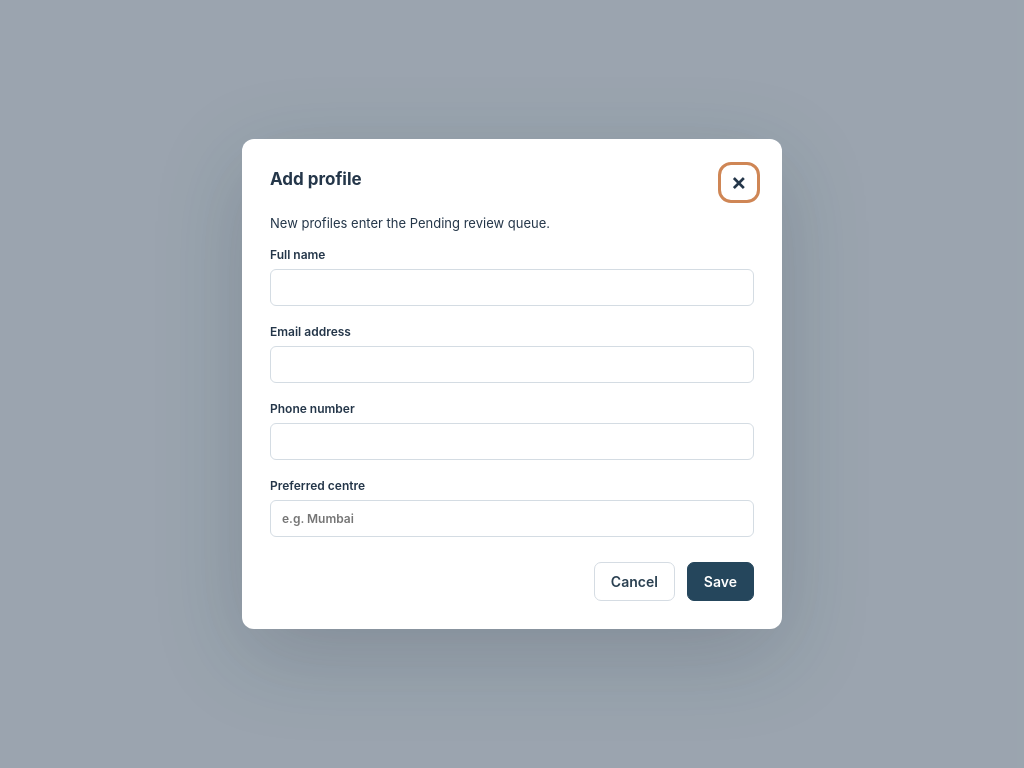
Create forms › retains profile input and displays duplicate email errors
In the field labelled "Full name": [512, 288] box [270,269,754,306], type "Candidate"
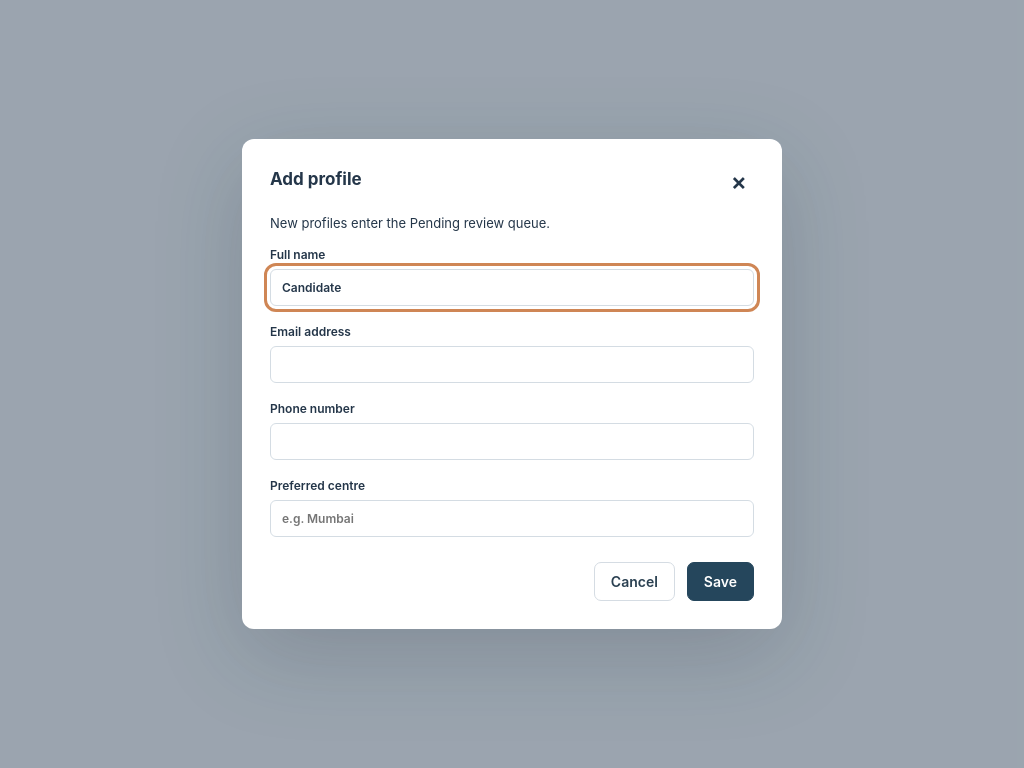
In the field labelled "Email address": [512, 365] box [270,346,754,383], type "candidate@example.com"
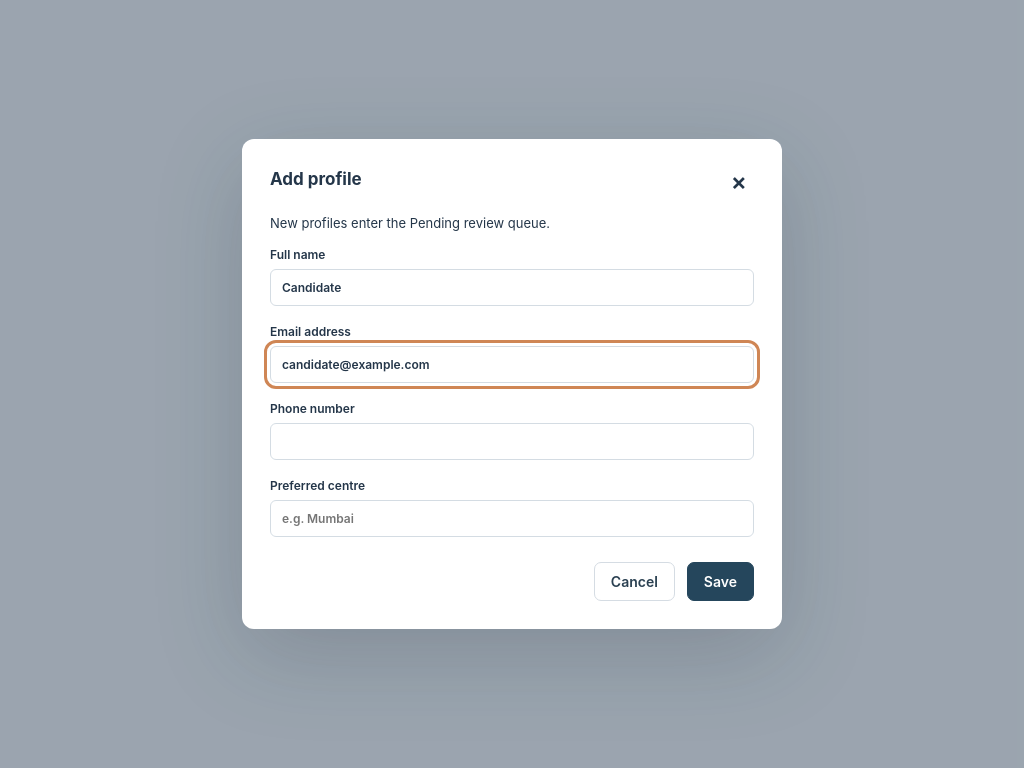
In the field labelled "Phone number": [512, 442] box [270,423,754,460], type "9876543210"
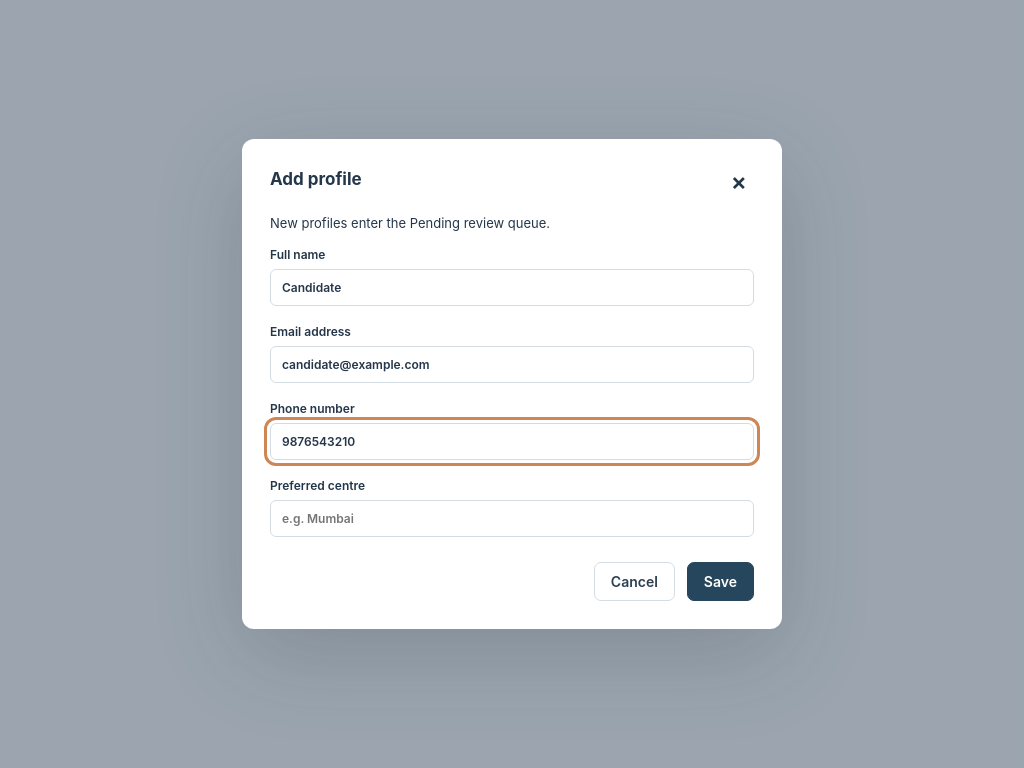
In the field labelled "Preferred centre": [512, 519] box [270,500,754,537], type "Mumbai"
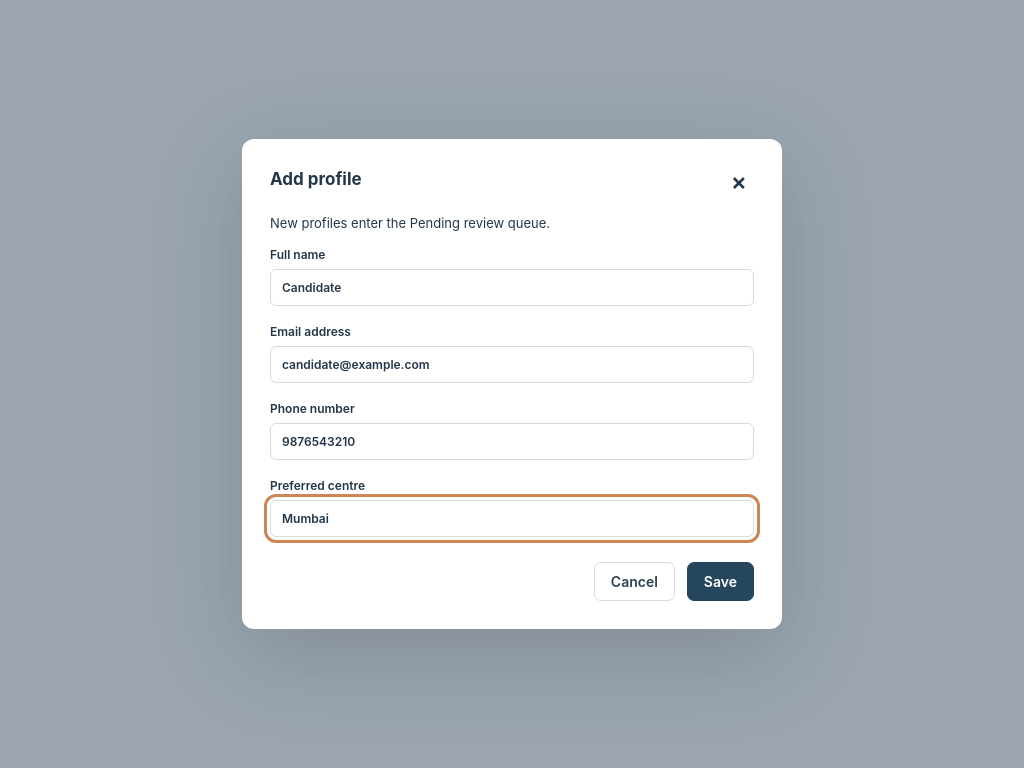
Submit the form "Save", box [270,247,754,601]
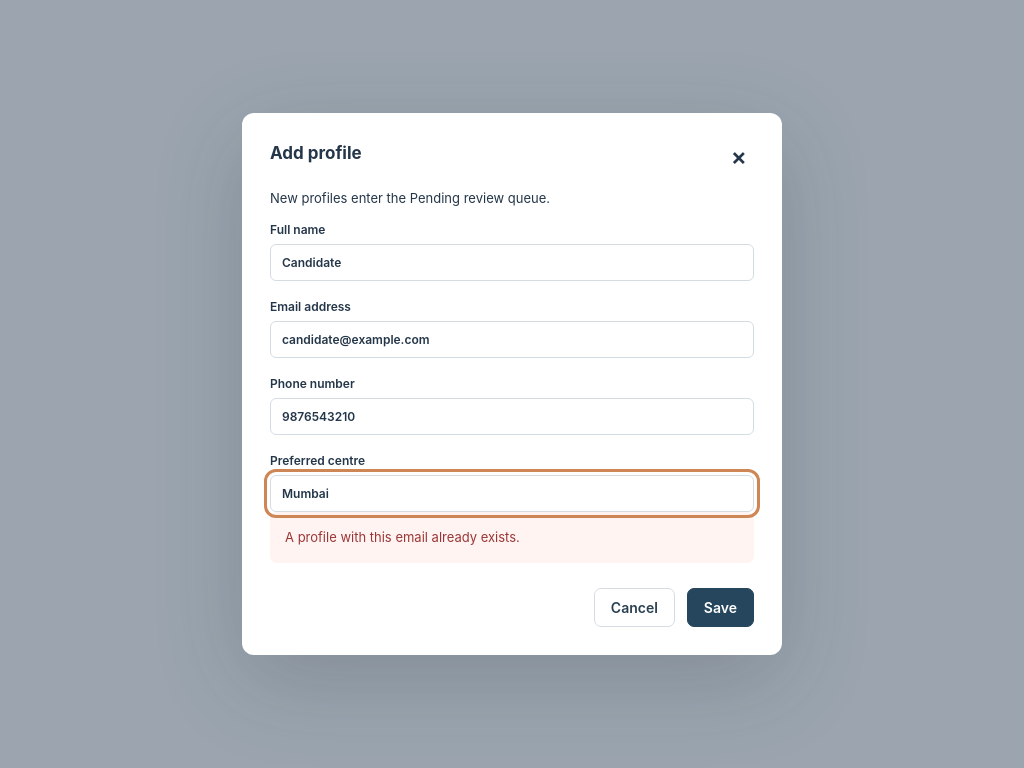
Expected: the message shows "already exists", [285,529,520,545]
